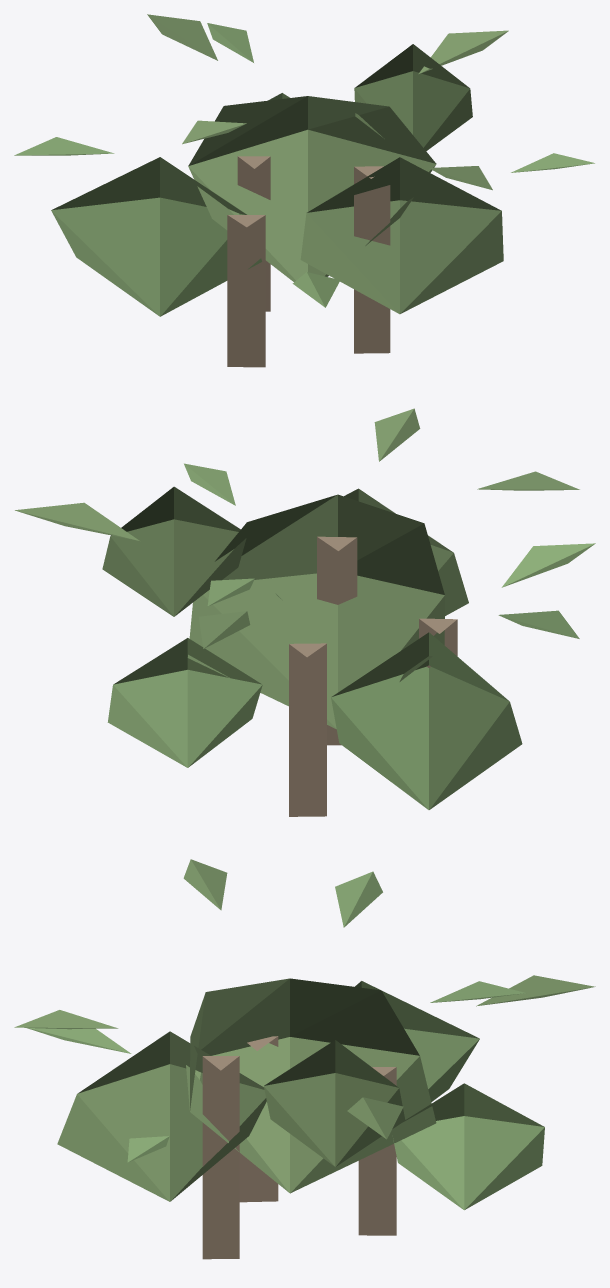
Rendered from guan.dujuan@subadult__spring.glb.
3 views of the same model, one above another, from view 1: azimuth 30°, elevation 25°; view 2: azimuth 150°, elevation 25°; view 3: azimuth 270°, elevation 25° (orthographic). The views are drawn at different scales.
Parts seen in each view (by area): view 1: guan.dujuan@subadult__spring; view 2: guan.dujuan@subadult__spring; view 3: guan.dujuan@subadult__spring.
Boxes of the visible parts, x1,y1,x2,y2 form: guan.dujuan@subadult__spring: [14, 14, 594, 367]; guan.dujuan@subadult__spring: [15, 408, 595, 816]; guan.dujuan@subadult__spring: [14, 859, 595, 1259].
Size of the model in its own units: 1.46 by 0.7716 by 1.35.
